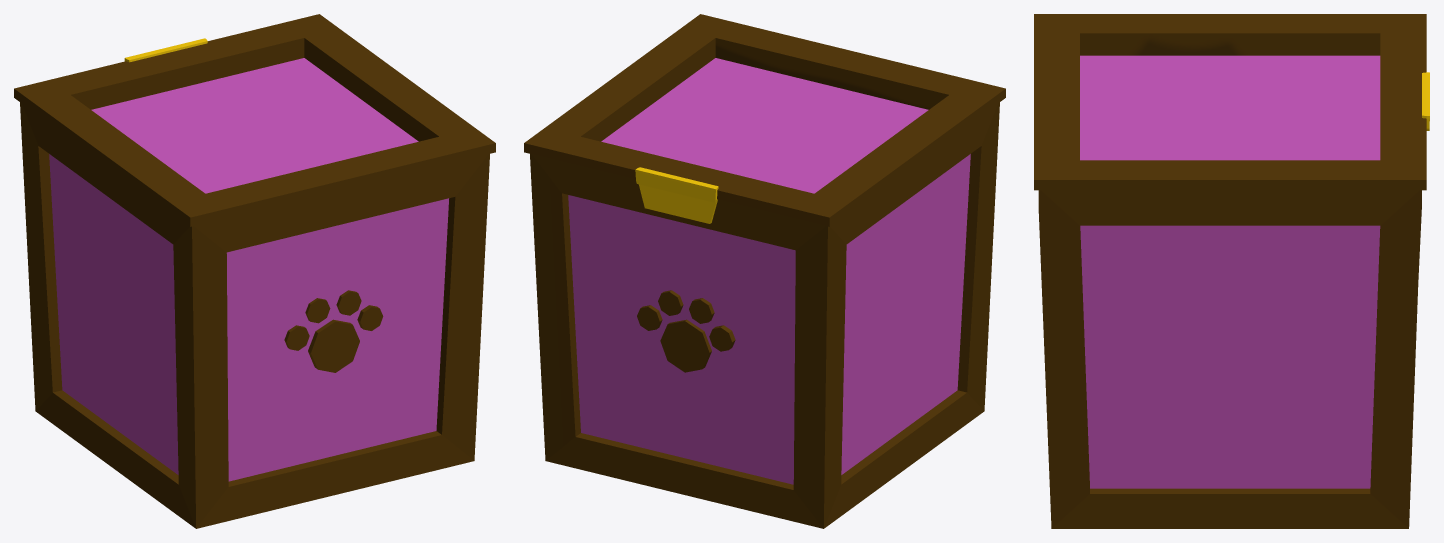
File: surprisebox.fbx
3 views of the same model, side by side, from view 1: azimuth 30°, elevation 25°; view 2: azimuth 150°, elevation 25°; view 3: azimuth 270°, elevation 25° (orthographic). The views are drawn at different scales.
Parts seen in each view (by area): view 1: Cube; view 2: Cube; view 3: Cube.
Part boxes in pixels (x1,y1,x2,y2): Cube: [14, 14, 495, 528]; Cube: [524, 14, 1005, 528]; Cube: [1034, 14, 1429, 528].
Size of the model in its own units: 127 by 128 by 128.
Materials: 1 (1 with a texture image).
